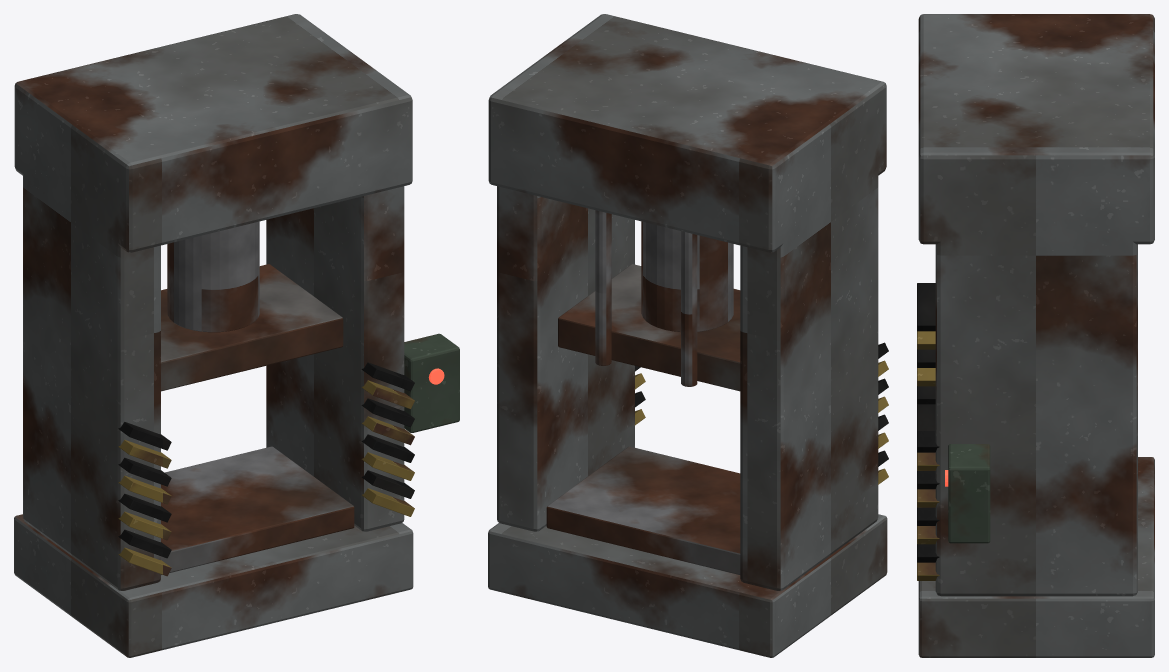
Rendered from F04_hydraulic_press.glb.
The picture shows the model from 3 angles, left to right: view 1: azimuth 30°, elevation 25°; view 2: azimuth 150°, elevation 25°; view 3: azimuth 270°, elevation 25°; orthographic projection. The views are drawn at different scales.
Parts seen in each view (by area): view 1: F04_hydraulic_press; view 2: F04_hydraulic_press; view 3: F04_hydraulic_press.
Part boxes in pixels (bbox=[...]): F04_hydraulic_press: bbox=[14, 14, 459, 657]; F04_hydraulic_press: bbox=[488, 14, 888, 657]; F04_hydraulic_press: bbox=[917, 14, 1154, 657].
Size of the model in its own units: 2.2 by 3 by 1.28.
Materials: 7 (7 with a texture image).
